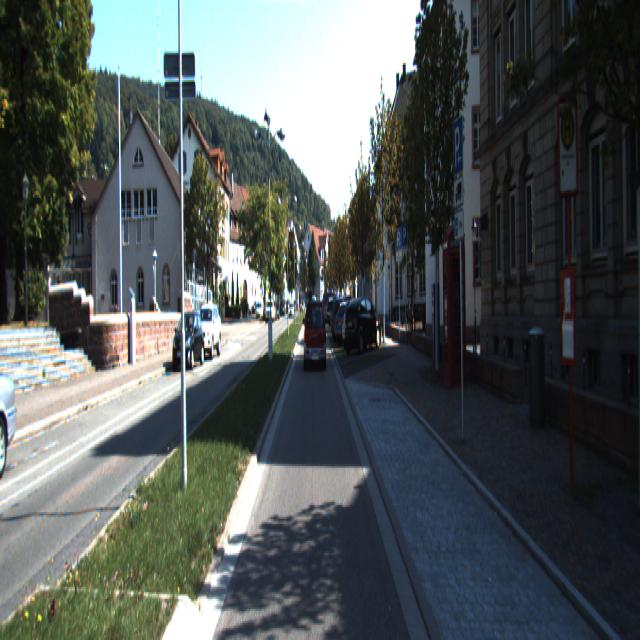Car: (0, 335, 21, 472), (344, 296, 382, 356), (342, 300, 380, 352), (172, 312, 206, 369), (334, 300, 370, 346), (193, 306, 222, 361), (305, 300, 327, 370)
